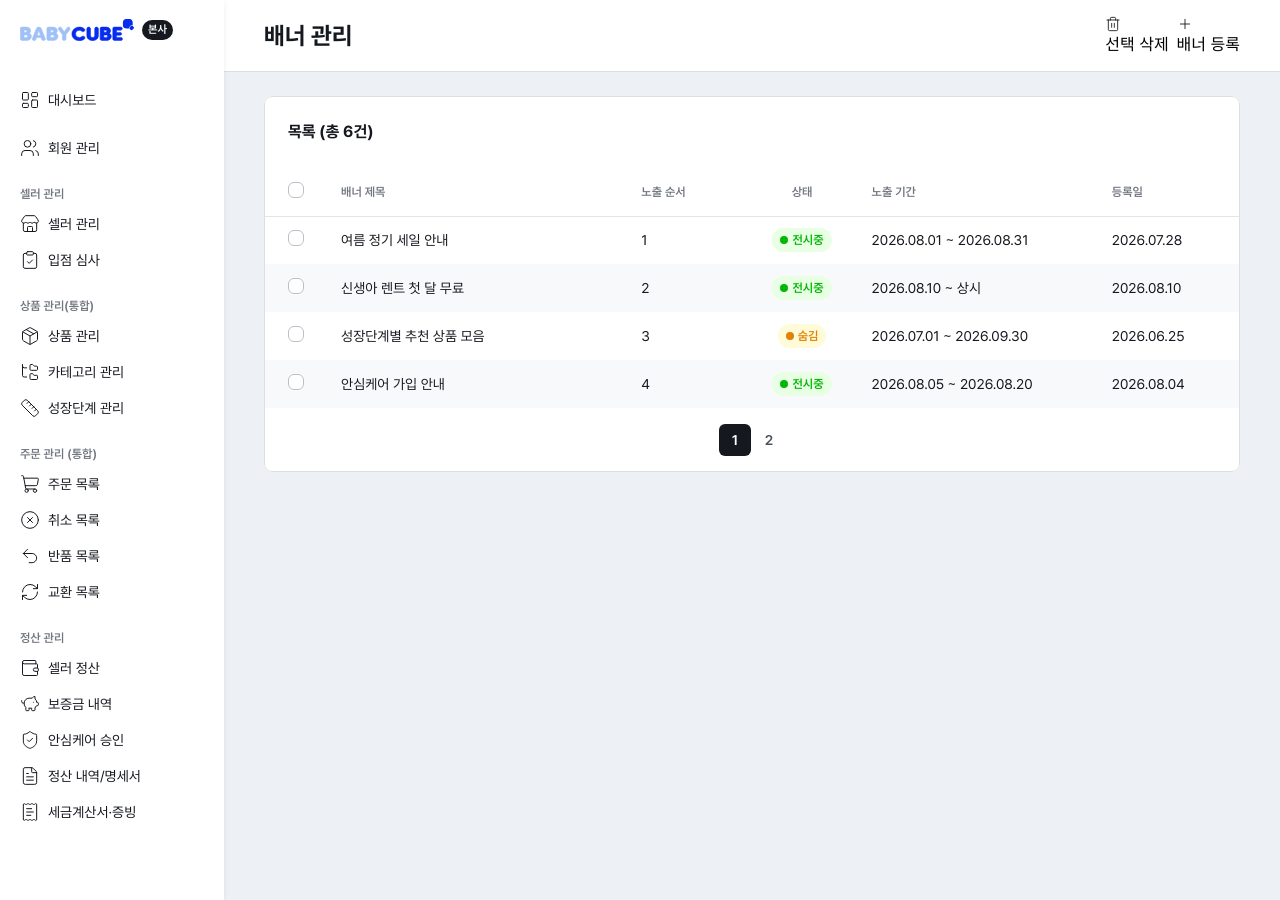
BannerListPage › 행 선택 › 행을 고르면 선택 건수가 함께 표시된다
This screenshot has width=1280, height=900.
Click the checkbox named "여름 정기 세일 안내 선택" at {"x": 296, "y": 238}, box [288,230,304,246]
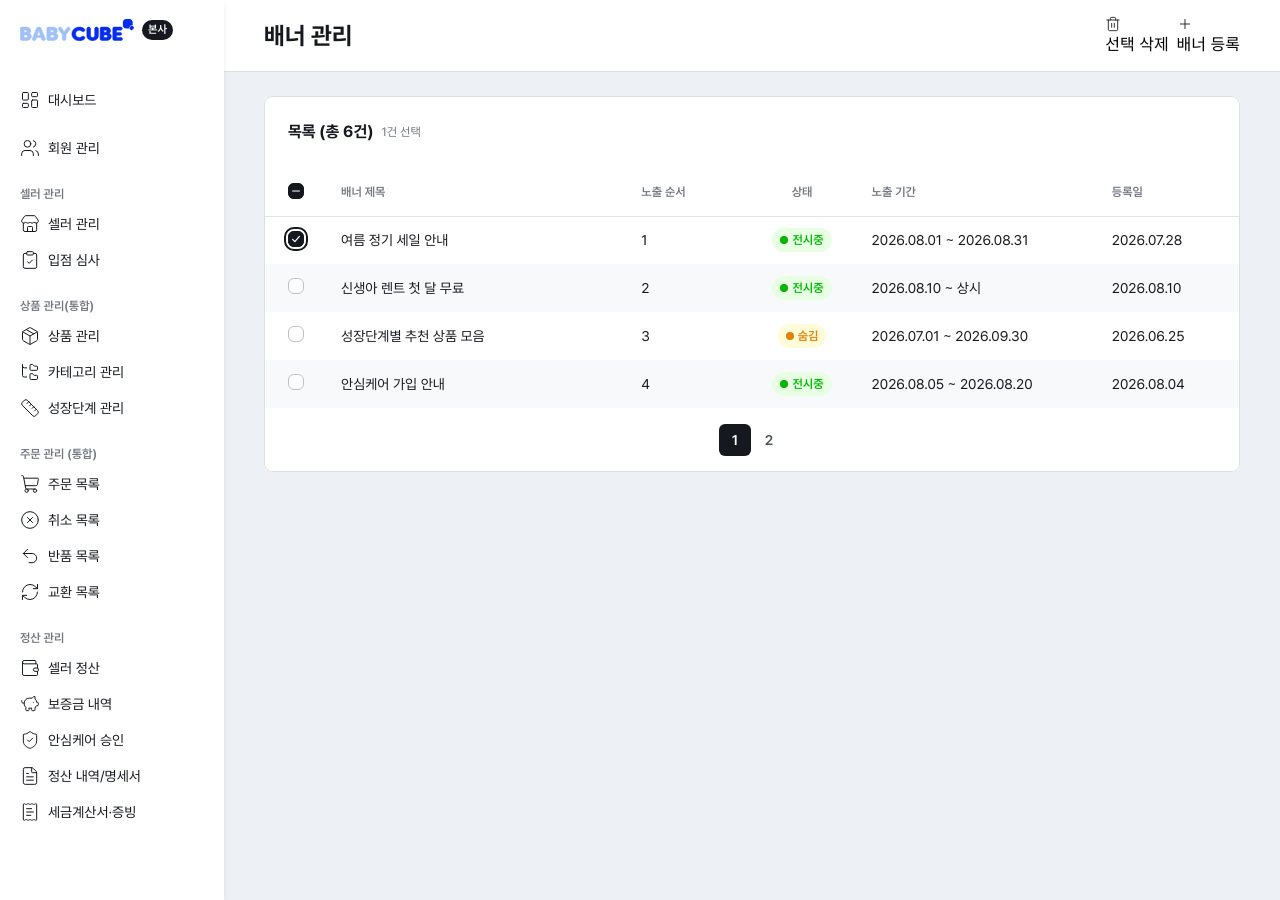
Now the text "1건 선택" is shown, box [381,124,421,140]
